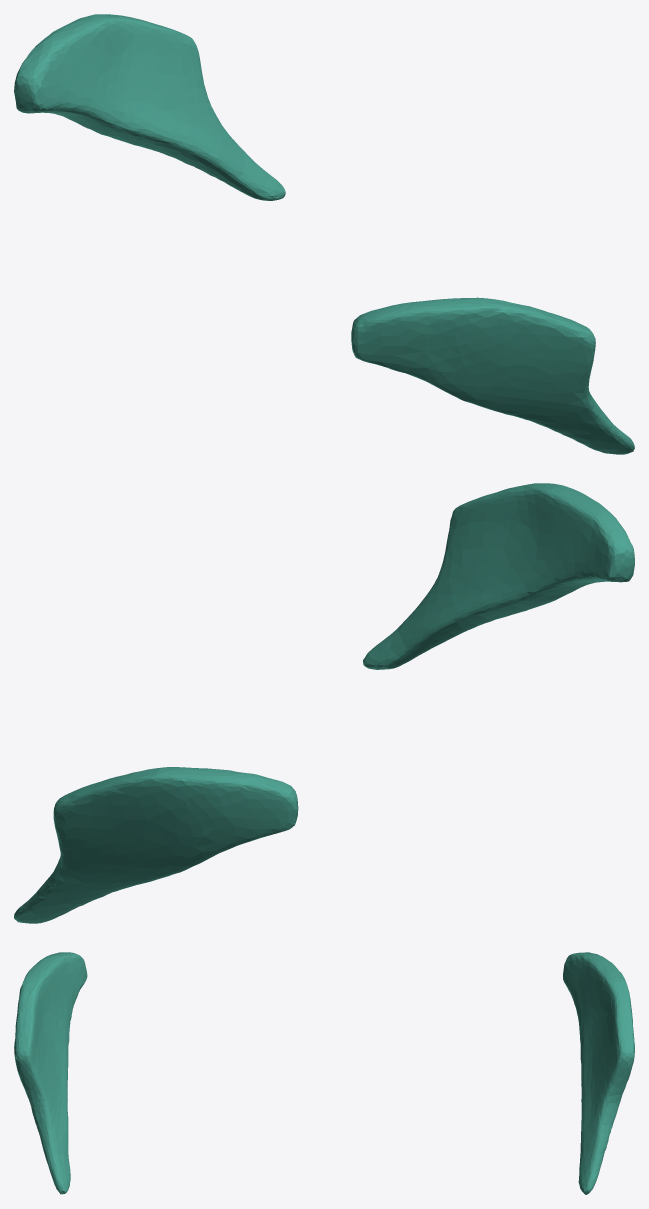
3 renders of one model, top to bottom at view 1: azimuth 30°, elevation 25°; view 2: azimuth 150°, elevation 25°; view 3: azimuth 270°, elevation 25°, orthographic. The views are drawn at different scales.
Visible parts, largest first — view 1: 862.obj; view 2: 862.obj; view 3: 862.obj.
Boxes of the visible parts, <box> form: 862.obj: <box>14,14,634,454</box>; 862.obj: <box>14,483,634,923</box>; 862.obj: <box>14,952,634,1194</box>.
Bounding box in the file's own units: 3259 × 2352 × 8440.
